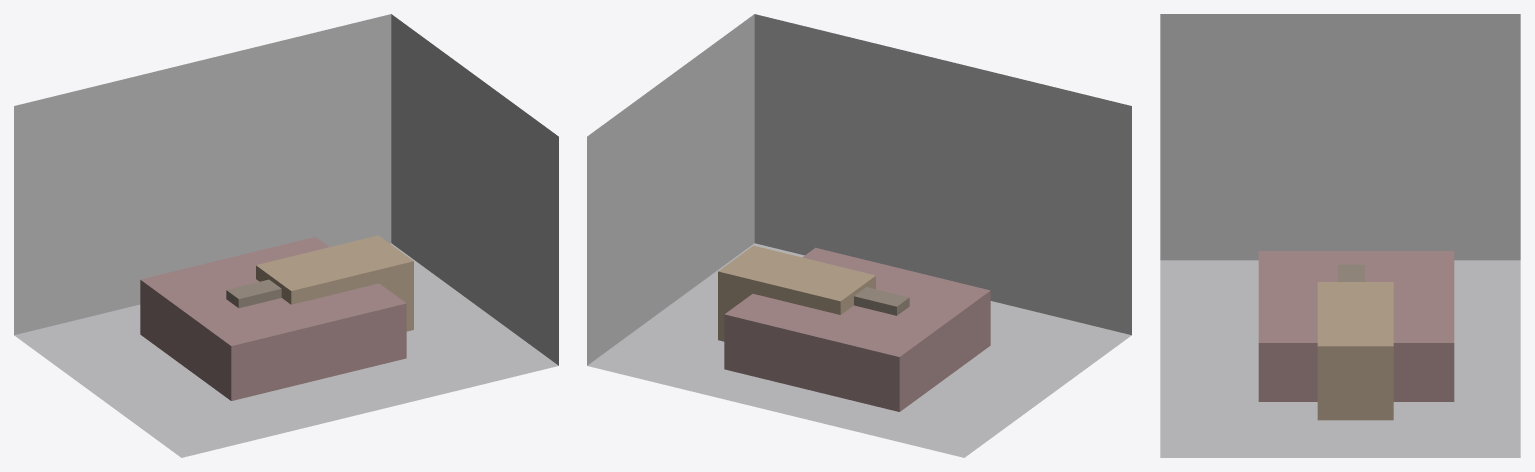
The model's file is optimised_layout.glb.
3 renders of one model, left to right at view 1: azimuth 30°, elevation 25°; view 2: azimuth 150°, elevation 25°; view 3: azimuth 270°, elevation 25°, orthographic. The views are drawn at different scales.
Parts seen in each view (by area): view 1: room, bed, desk, suitcase; view 2: room, bed, desk, suitcase; view 3: room, bed, desk, suitcase.
Boxes of the visible parts, left/top/right/bottom form: room: left=14, top=14, right=558, bottom=457; bed: left=140, top=237, right=406, bottom=400; desk: left=256, top=235, right=413, bottom=331; suitcase: left=226, top=279, right=281, bottom=308; room: left=587, top=14, right=1131, bottom=457; bed: left=724, top=247, right=990, bottom=411; desk: left=718, top=245, right=875, bottom=341; suitcase: left=854, top=287, right=909, bottom=315; room: left=1160, top=14, right=1520, bottom=457; bed: left=1258, top=251, right=1454, bottom=401; desk: left=1317, top=282, right=1393, bottom=420; suitcase: left=1338, top=264, right=1364, bottom=281.
Size of the model in its own units: 4.31 by 2.5 by 3.31.
